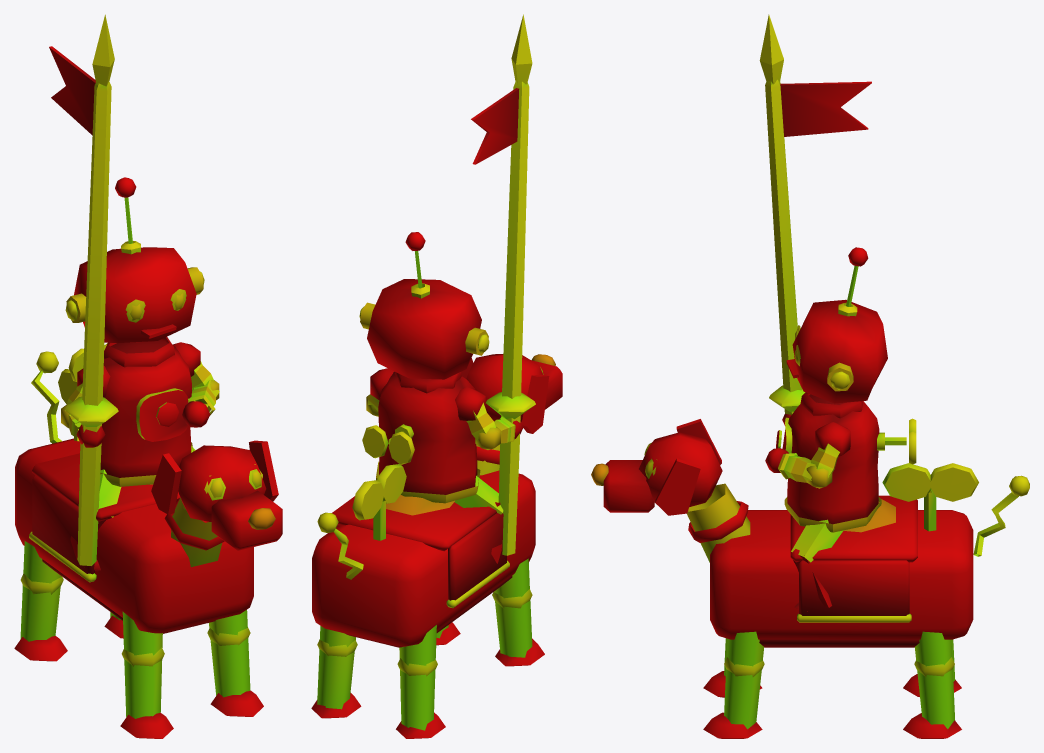
The model's file is RobotHoundRider_LOD1.glb.
3 views of the same model, side by side, from view 1: azimuth 30°, elevation 25°; view 2: azimuth 150°, elevation 25°; view 3: azimuth 270°, elevation 25° (orthographic). The views are drawn at different scales.
Parts seen in each view (by area): view 1: RobotHoundRider_LOD1; view 2: RobotHoundRider_LOD1; view 3: RobotHoundRider_LOD1.
Part boxes in pixels (x1,y1,x2,y2): RobotHoundRider_LOD1: (14,14,282,738); RobotHoundRider_LOD1: (311,14,562,738); RobotHoundRider_LOD1: (591,14,1029,738).
Size of the model in its own units: 0.5104 by 2.17 by 1.29.
